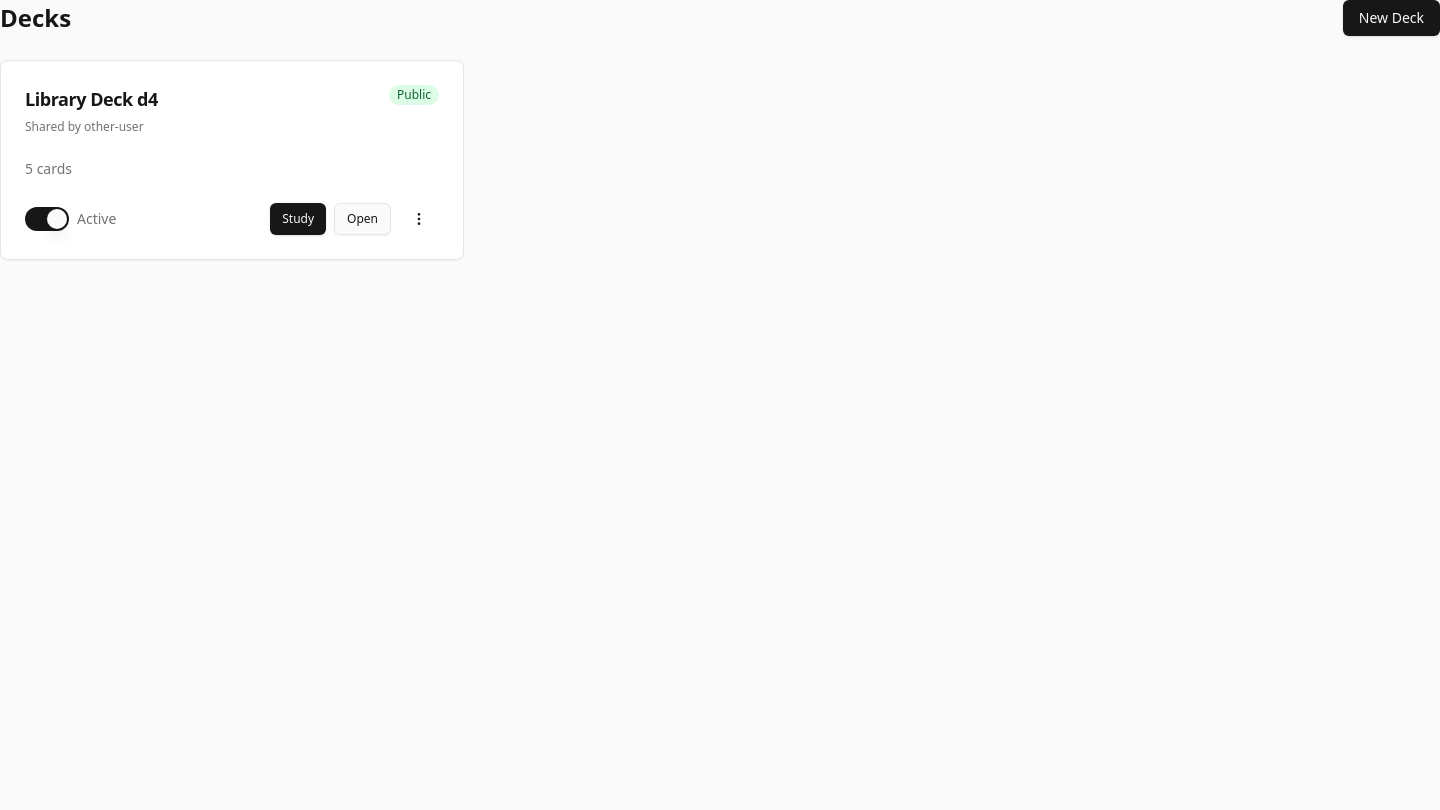
Test: DecksPage library deck remove from library (LIB-02) › LIB-02c: clicking "Remove from library" opens AlertDialog with correct title and body
Press the mouse on the button named "more actions" at (419, 219), box top-left (399, 203), bottom-right (439, 235)
Click the button named "more actions".
click(419, 219)  # box top-left (399, 203), bottom-right (439, 235)
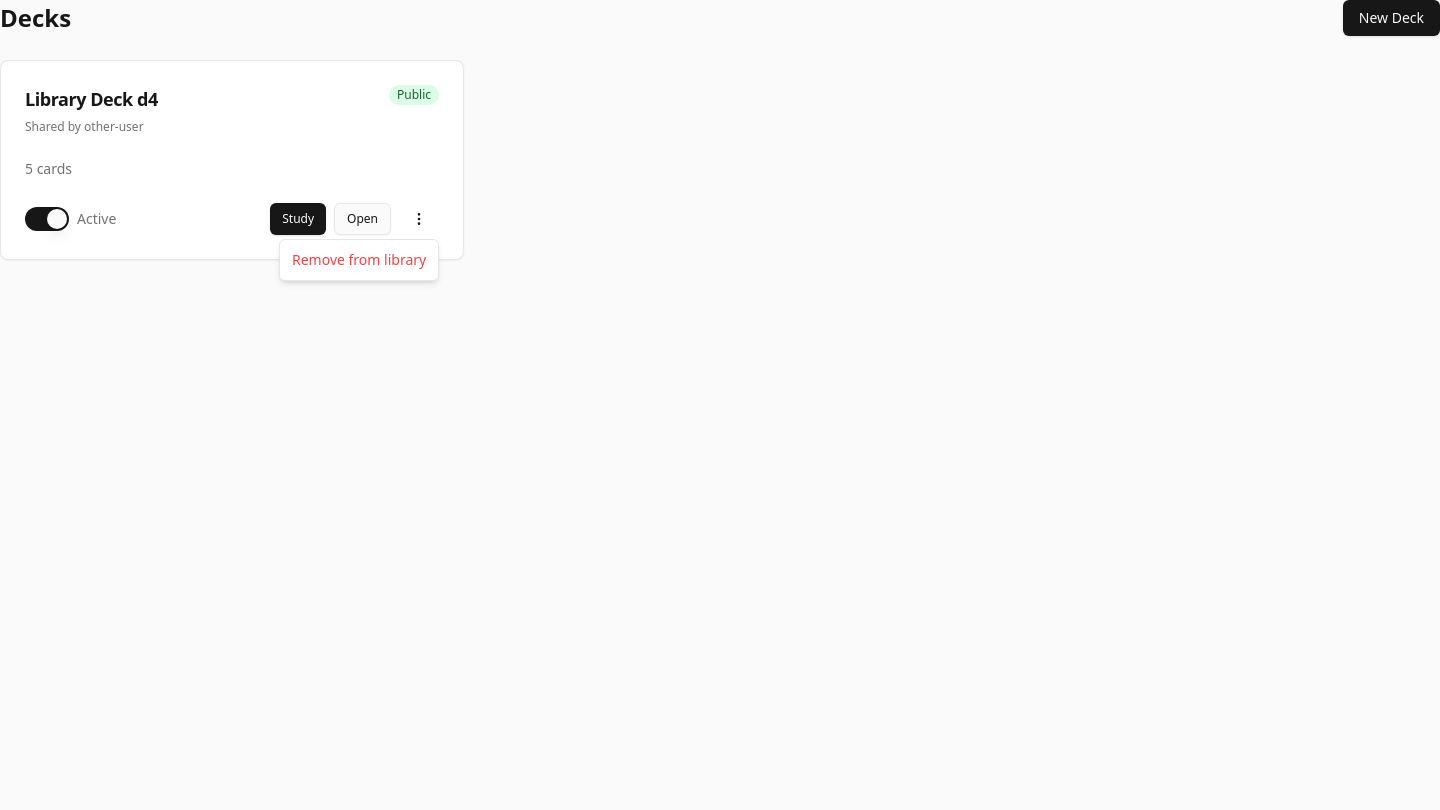
Click the menu item "Remove from library".
click(359, 260)  # box top-left (292, 250), bottom-right (426, 269)
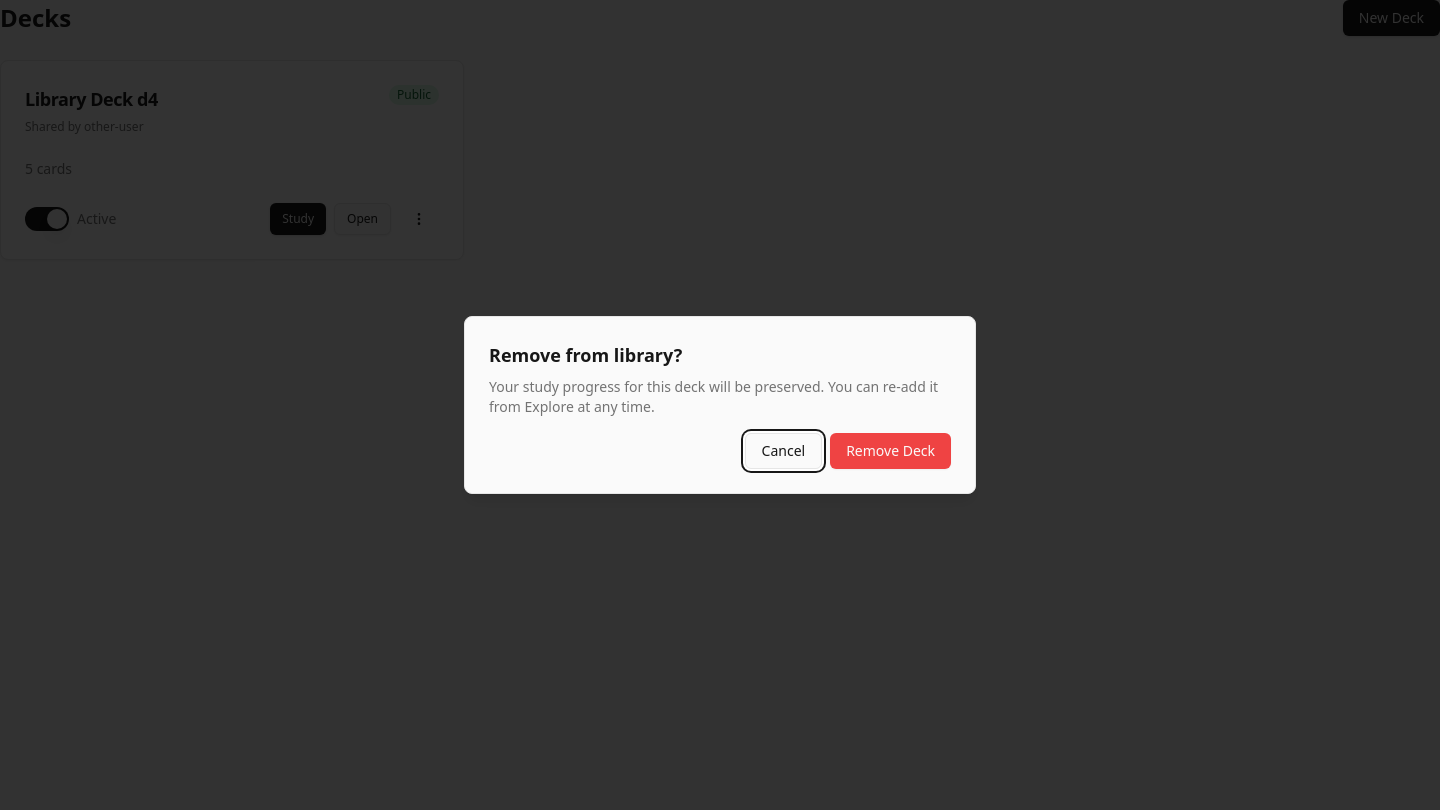
Check: the heading "Remove from library?" is shown, box top-left (489, 343), bottom-right (682, 367)
Check: the text "Your study progress for this deck will be preserved" is shown, box top-left (489, 377), bottom-right (938, 416)
